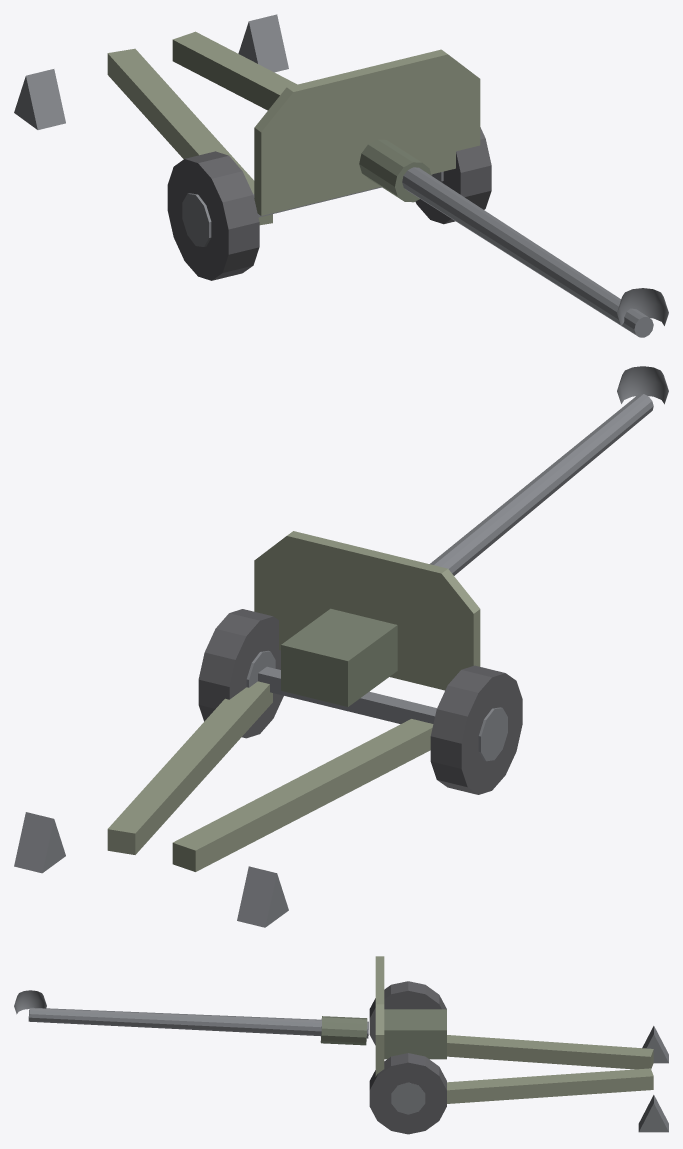
File: armoured-column-and-field-camp-anti-tank-gun-8ef12575__23680.glb
The picture shows the model from 3 angles, top to bottom: view 1: azimuth 30°, elevation 25°; view 2: azimuth 150°, elevation 25°; view 3: azimuth 270°, elevation 25°; orthographic projection. The views are drawn at different scales.
Visible parts, largest first — view 1: anti-tank-gun; view 2: anti-tank-gun; view 3: anti-tank-gun.
Part boxes in pixels (x1,y1,x2,y2): anti-tank-gun: (14,14,668,337); anti-tank-gun: (14,366,668,927); anti-tank-gun: (14,956,668,1134).
Size of the model in its own units: 2.13 by 1.38 by 6.94.
